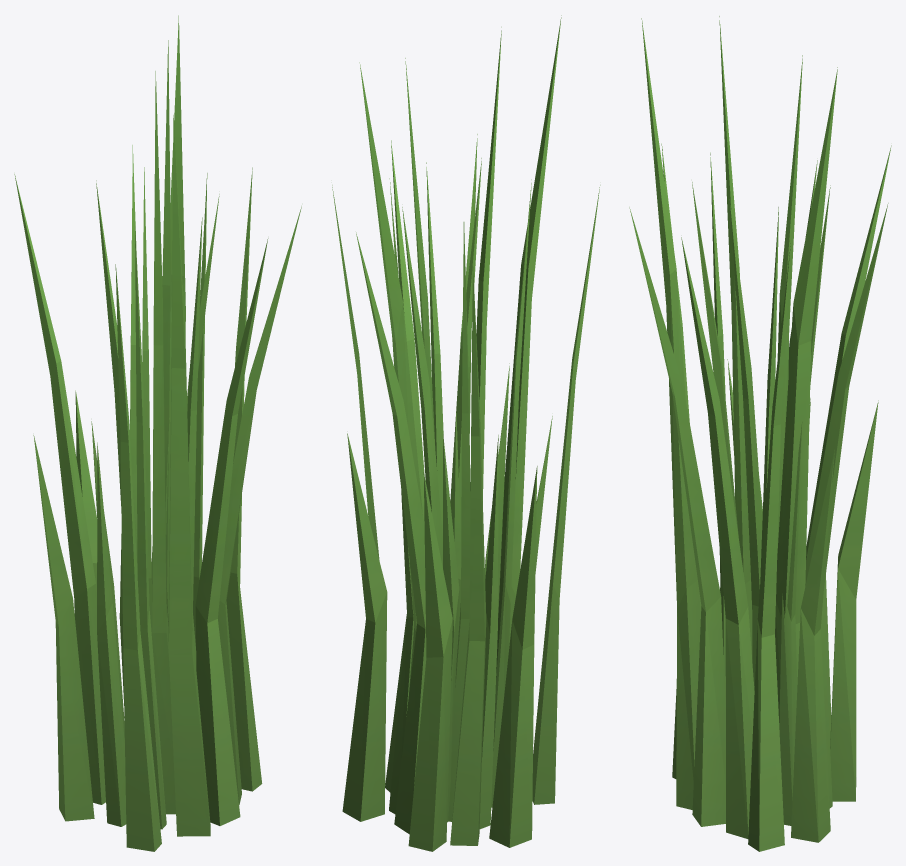
The model's file is tallgrass_a.glb.
3 renders of one model, left to right at view 1: azimuth 30°, elevation 25°; view 2: azimuth 150°, elevation 25°; view 3: azimuth 270°, elevation 25°, orthographic.
Parts seen in each view (by area): view 1: GrassHigh_A_4; view 2: GrassHigh_A_4; view 3: GrassHigh_A_4.
Boxes of the visible parts, bbox=[...] form: GrassHigh_A_4: bbox=[14, 15, 301, 851]; GrassHigh_A_4: bbox=[332, 15, 600, 851]; GrassHigh_A_4: bbox=[629, 16, 891, 851].
Bounding box in the file's own units: 0.2745 × 0.95 × 0.292.
Materials: 1 (1 with a texture image).
